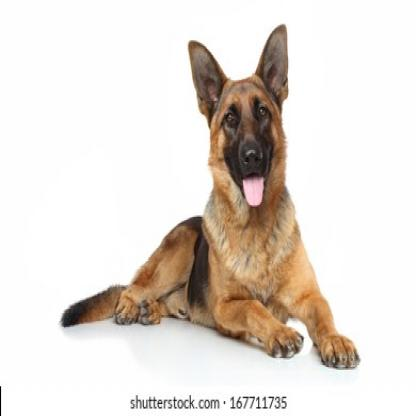german shepherd: (58, 29, 358, 366)
